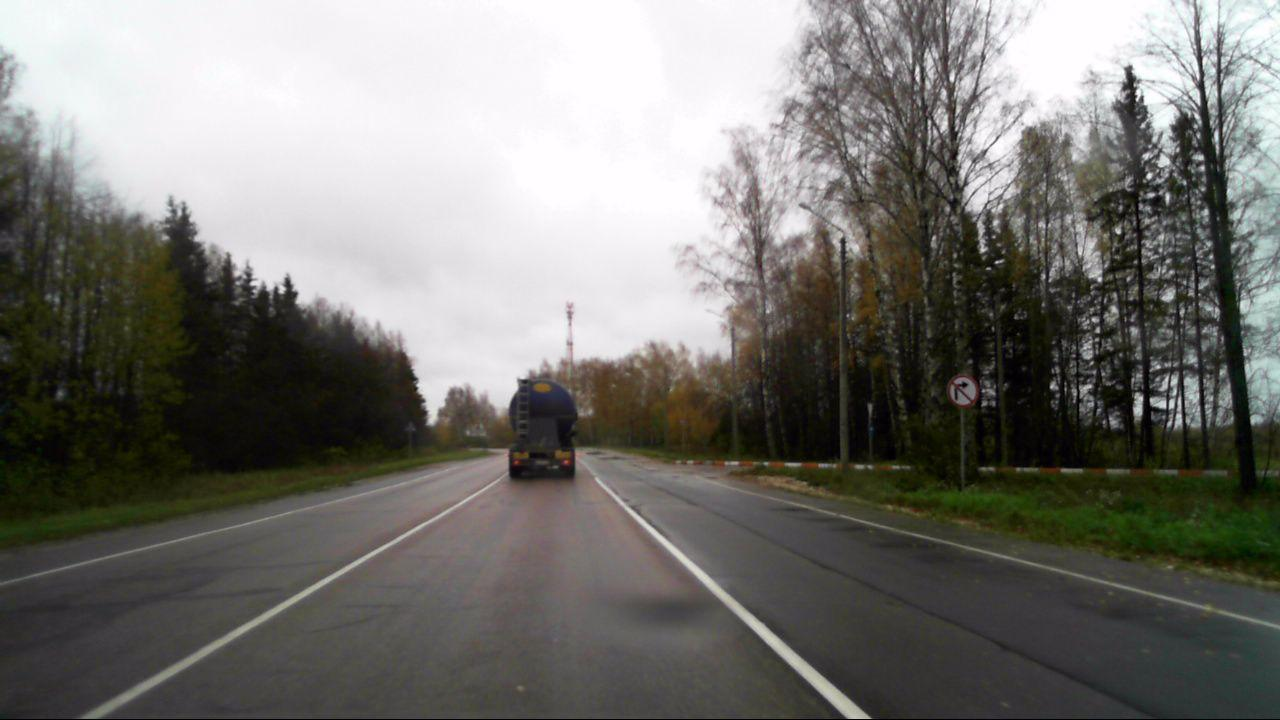3_18_1: (946, 373, 982, 409)
